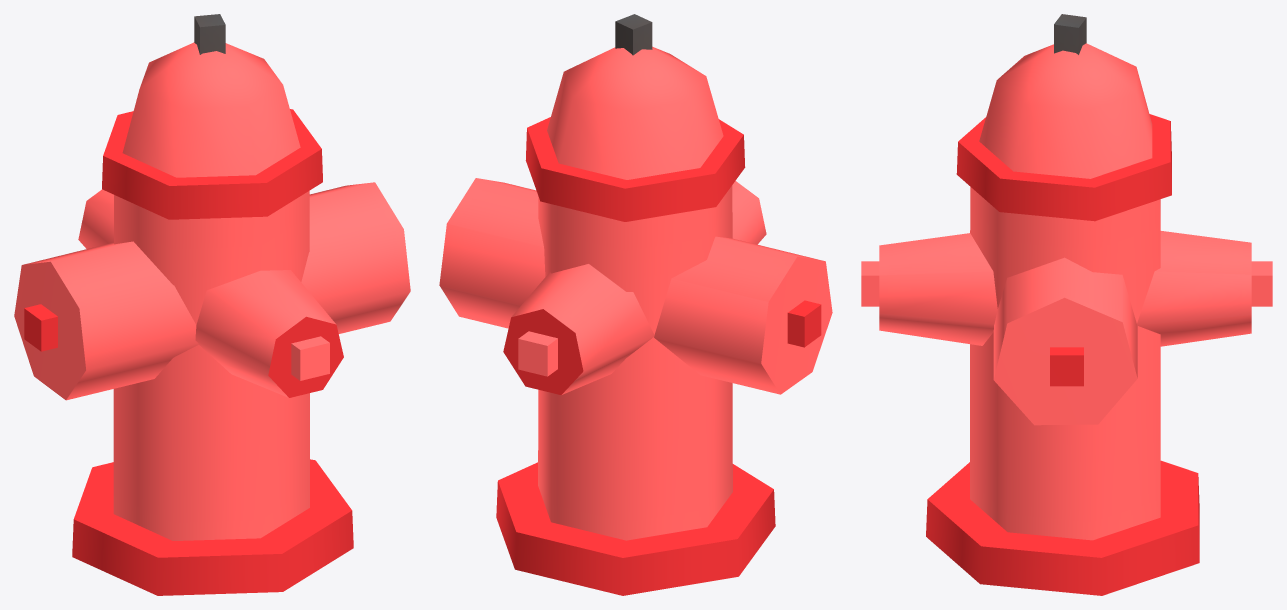
File: city2-hydrant-01.glb
3 renders of one model, left to right at view 1: azimuth 30°, elevation 25°; view 2: azimuth 150°, elevation 25°; view 3: azimuth 270°, elevation 25°, orthographic.
Parts seen in each view (by area): view 1: Hydrant_01; view 2: Hydrant_01; view 3: Hydrant_01.
Boxes of the visible parts, x1,y1,x2,y2 form: Hydrant_01: [14, 14, 410, 595]; Hydrant_01: [439, 14, 832, 595]; Hydrant_01: [861, 14, 1272, 595].
Size of the model in its own units: 0.6325 by 0.875 by 0.6326.
Materials: 1 (1 with a texture image).
